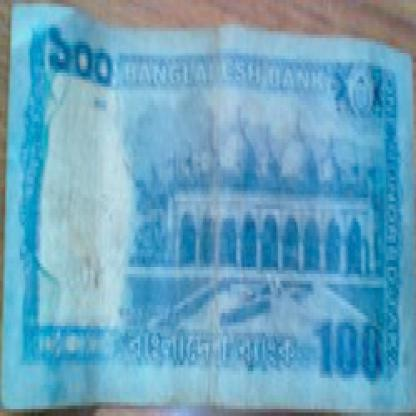one hundred taka: (311, 312, 386, 385), (42, 24, 116, 94)
